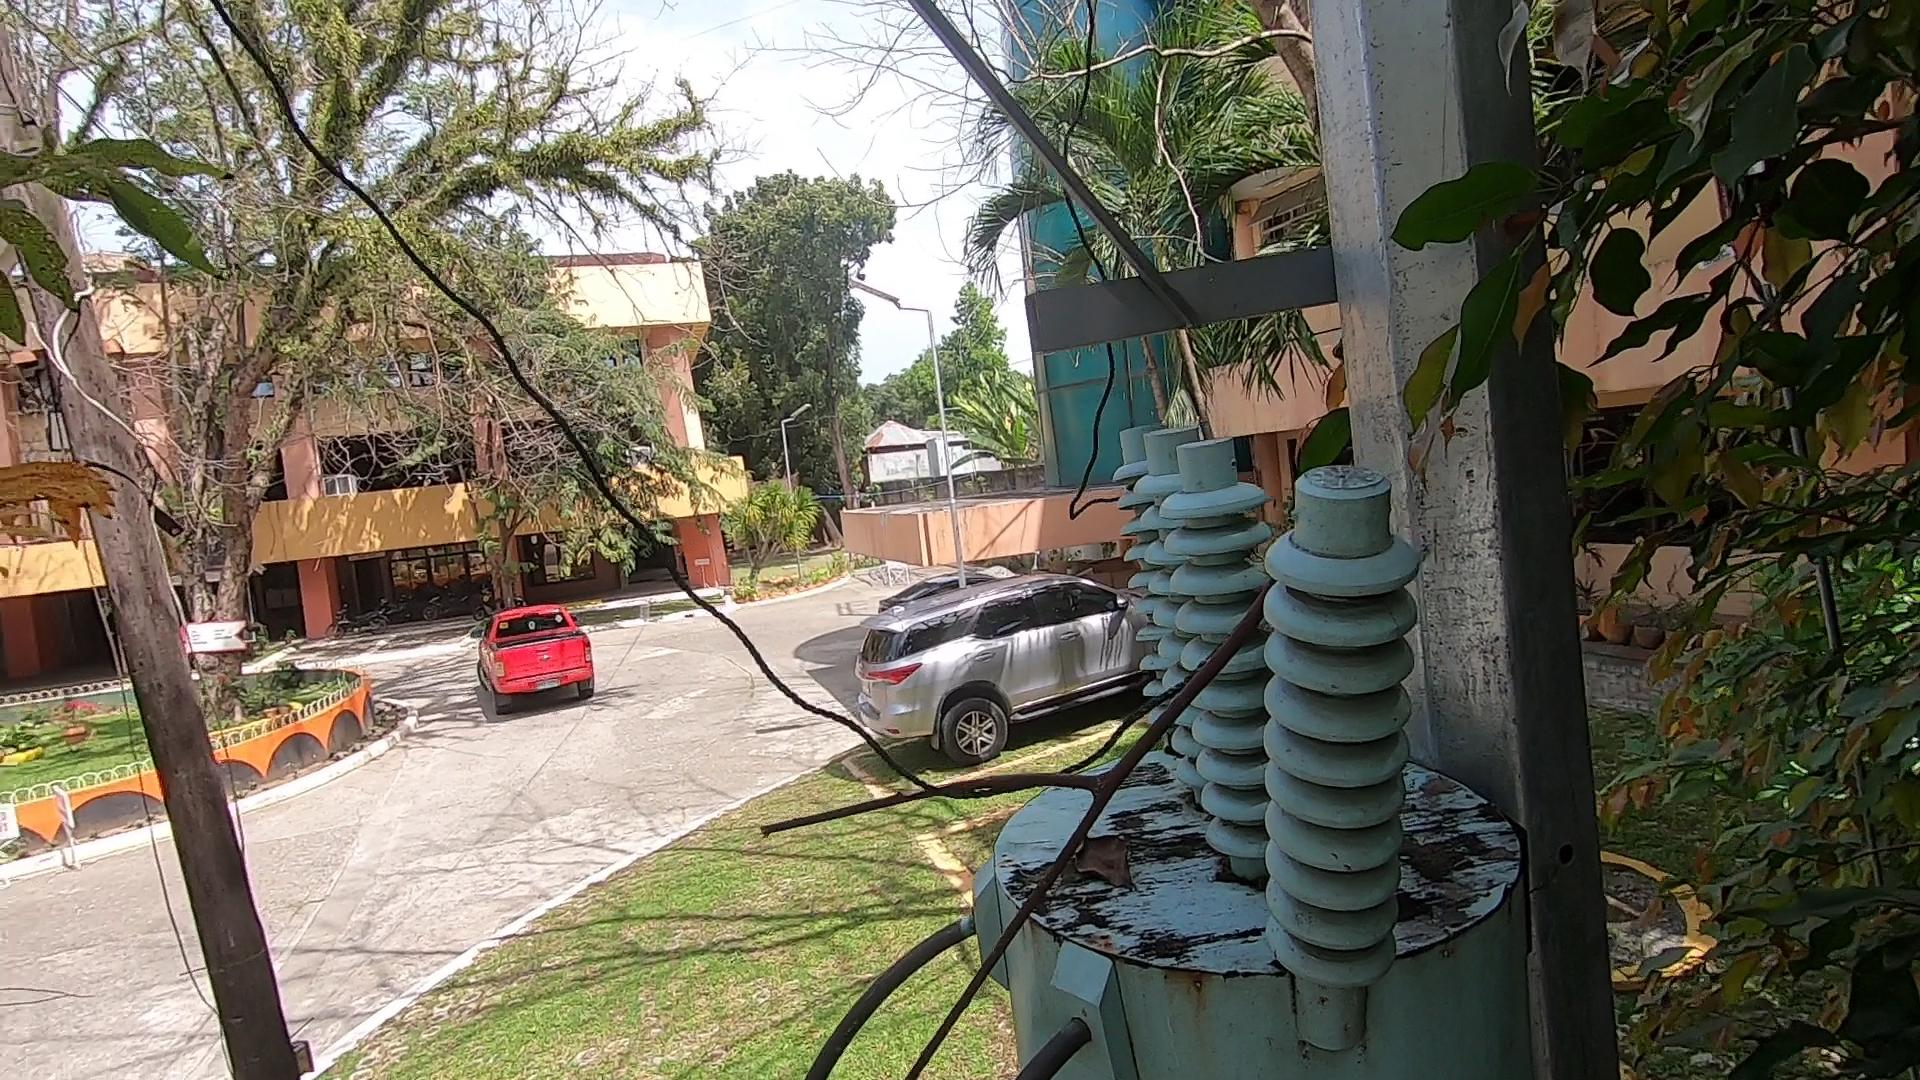leaf: (1054, 823, 1145, 902)
tree branch: (740, 564, 1342, 1080)
